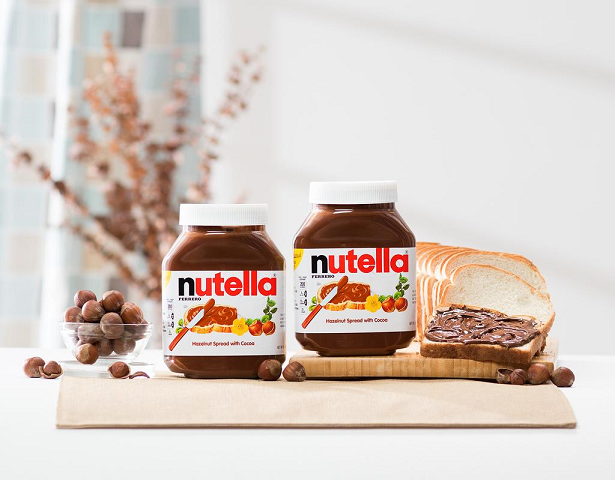nutella: (292, 177, 417, 356), (161, 203, 286, 379)
